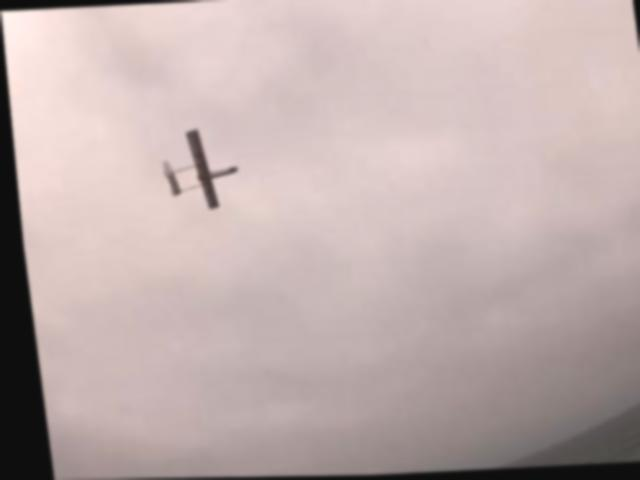uav: (151, 120, 248, 223)
